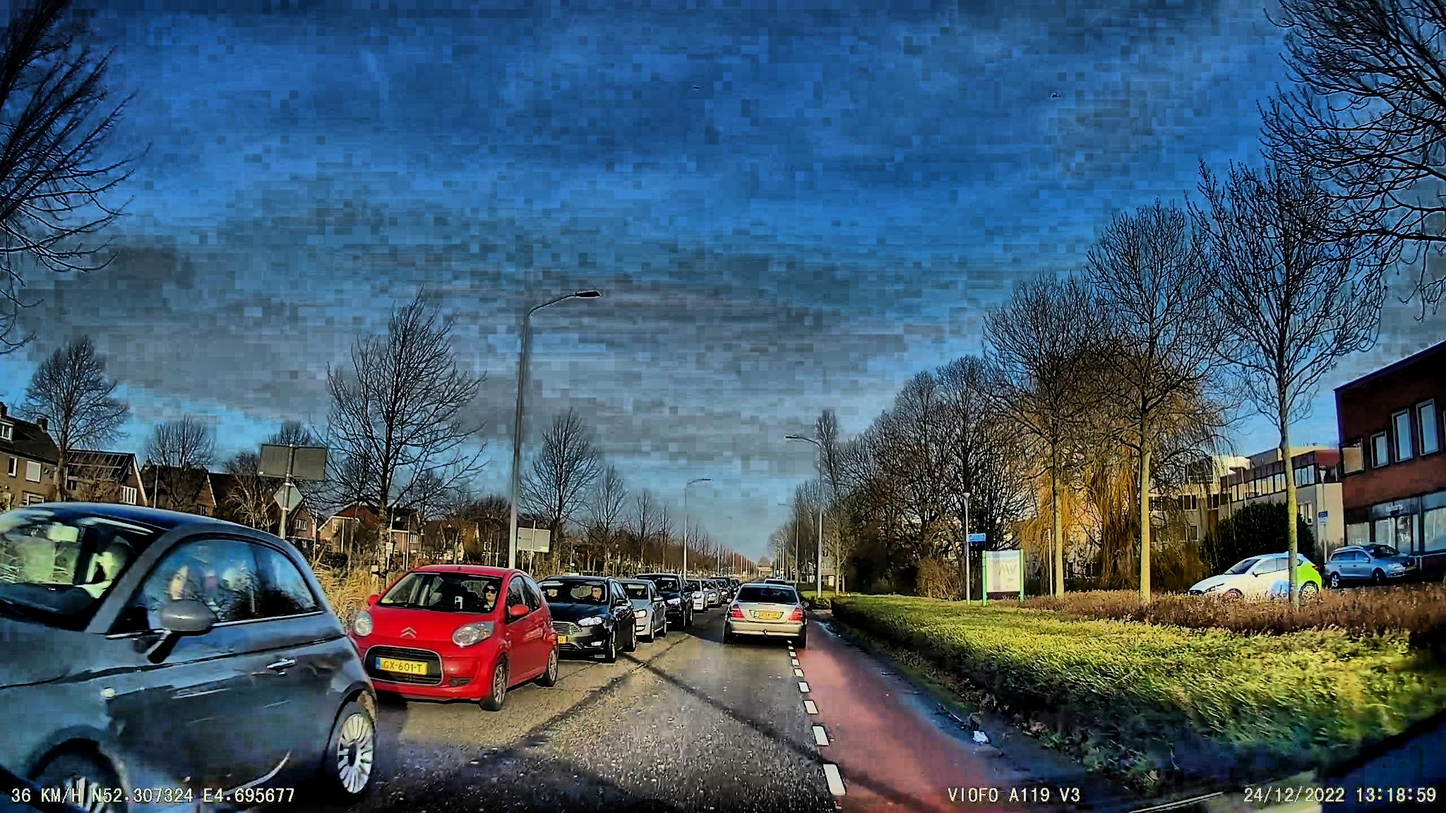Roads: (271, 611, 975, 813)
